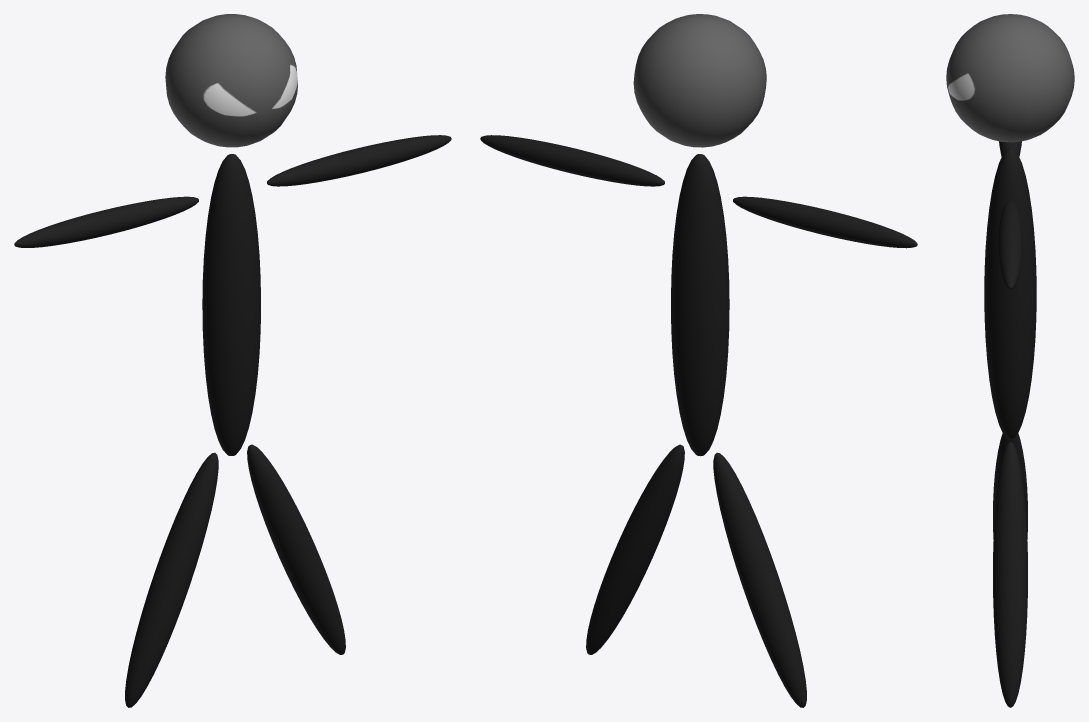
Rendered from player_2.obj.
3 views of the same model, side by side, from view 1: azimuth 30°, elevation 25°; view 2: azimuth 150°, elevation 25°; view 3: azimuth 270°, elevation 25° (orthographic). The views are drawn at different scales.
Parts seen in each view (by area): view 1: pSphere1, pSphere6, pSphere5, pSphere4, pSphere2, pSphere3; view 2: pSphere1, pSphere6, pSphere5, pSphere4, pSphere2, pSphere3; view 3: pSphere6, pSphere1, pSphere4, pSphere2, pSphere5, pSphere3.
Part boxes in pixels (x1,y1,x2,y2): pSphere1: (202,154,260,455); pSphere6: (165,14,297,147); pSphere5: (125,452,218,707); pSphere4: (247,444,345,654); pSphere2: (267,135,451,186); pSphere3: (14,196,198,247); pSphere1: (671,154,729,456); pSphere6: (633,14,766,147); pSphere5: (713,452,806,707); pSphere4: (586,444,684,654); pSphere2: (480,135,664,186); pSphere3: (733,196,917,248); pSphere6: (946,14,1074,142); pSphere1: (984,148,1036,439); pSphere4: (993,442,1027,707); pSphere2: (998,200,1022,289); pSphere5: (993,433,1027,539); pSphere3: (999,141,1021,156).
Bounding box in the file's own units: 1.43 × 2.07 × 0.3777.
2 materials, 1 textured.
